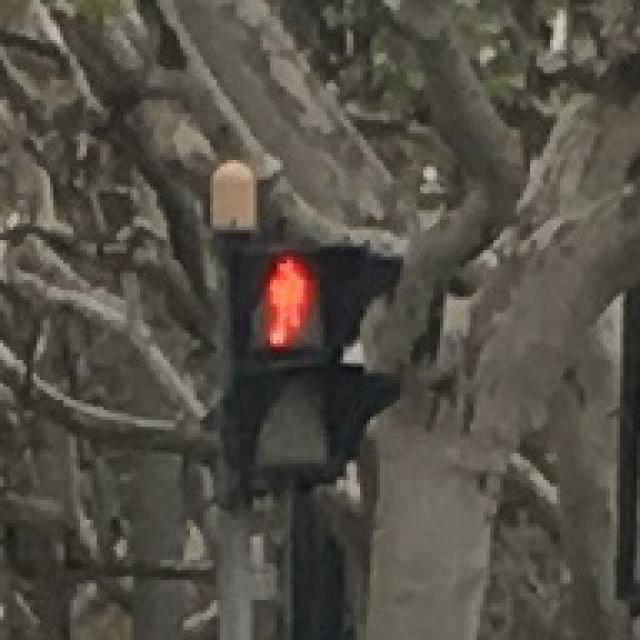red_light: (243, 243, 327, 347)
